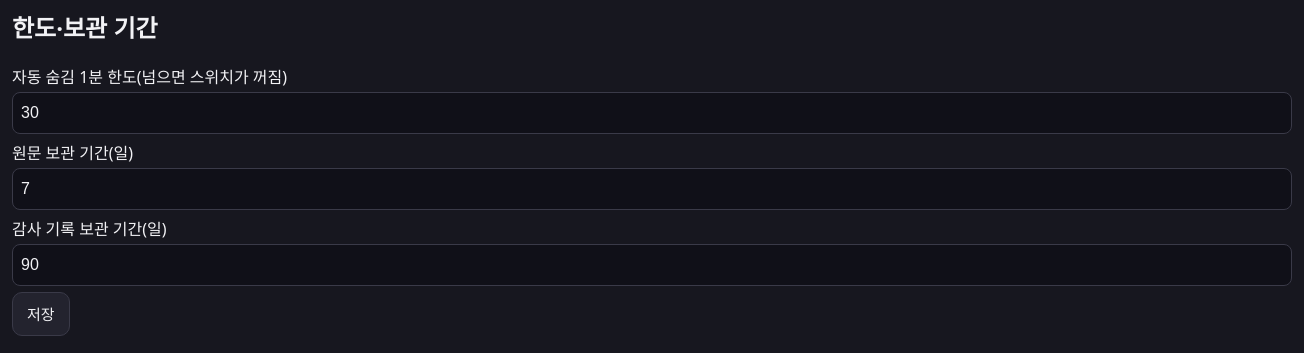
중복 제출 방지 › 한도 저장: 두 번 눌러도 PUT은 한 번이고 버튼이 잠긴다
This screenshot has width=1304, height=353.
Type "1" into the number field labelled "원문 보관 기간(일)". click: (652, 189)
box: [12,168,1292,210]
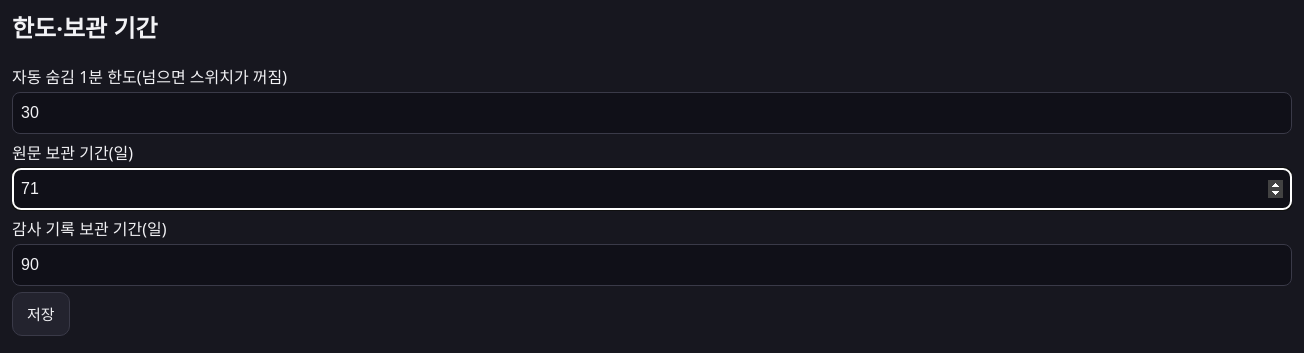
Double-click the button "저장" at (41, 314), box [12,292,70,336]
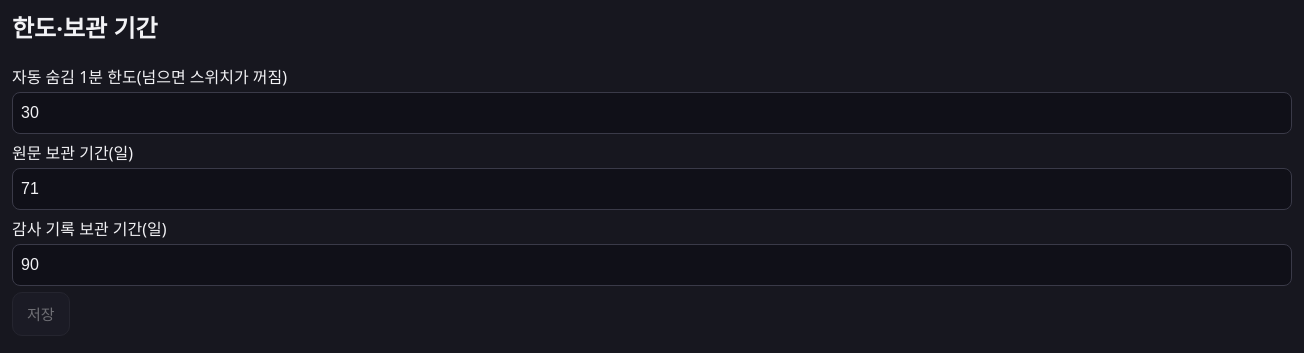
Check: the button "저장" is disabled, box [12,292,70,336]
